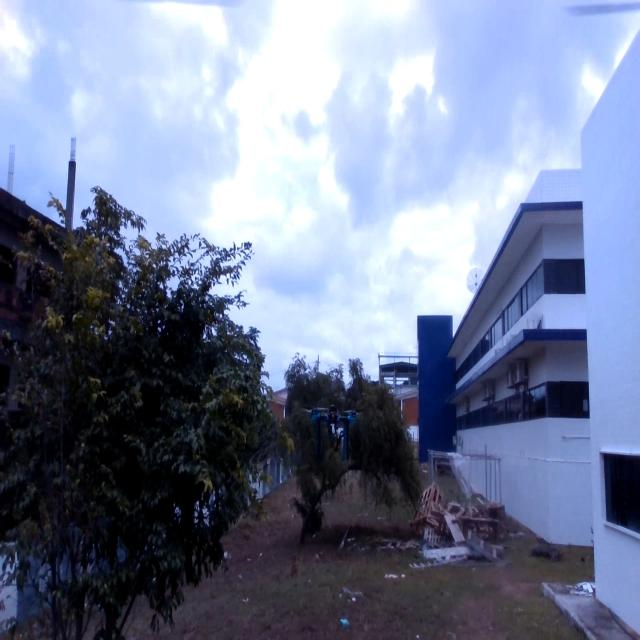-uav-: (300, 387, 368, 465)
